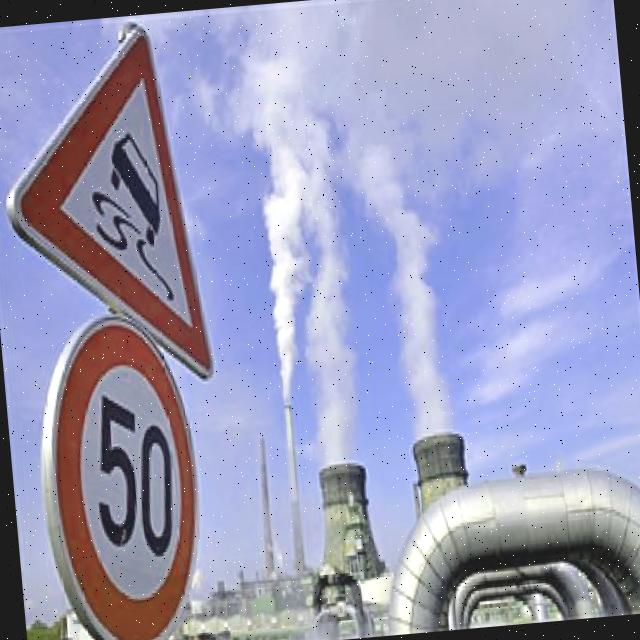Ograniczenie predkosci do 50: (29, 304, 209, 640)
